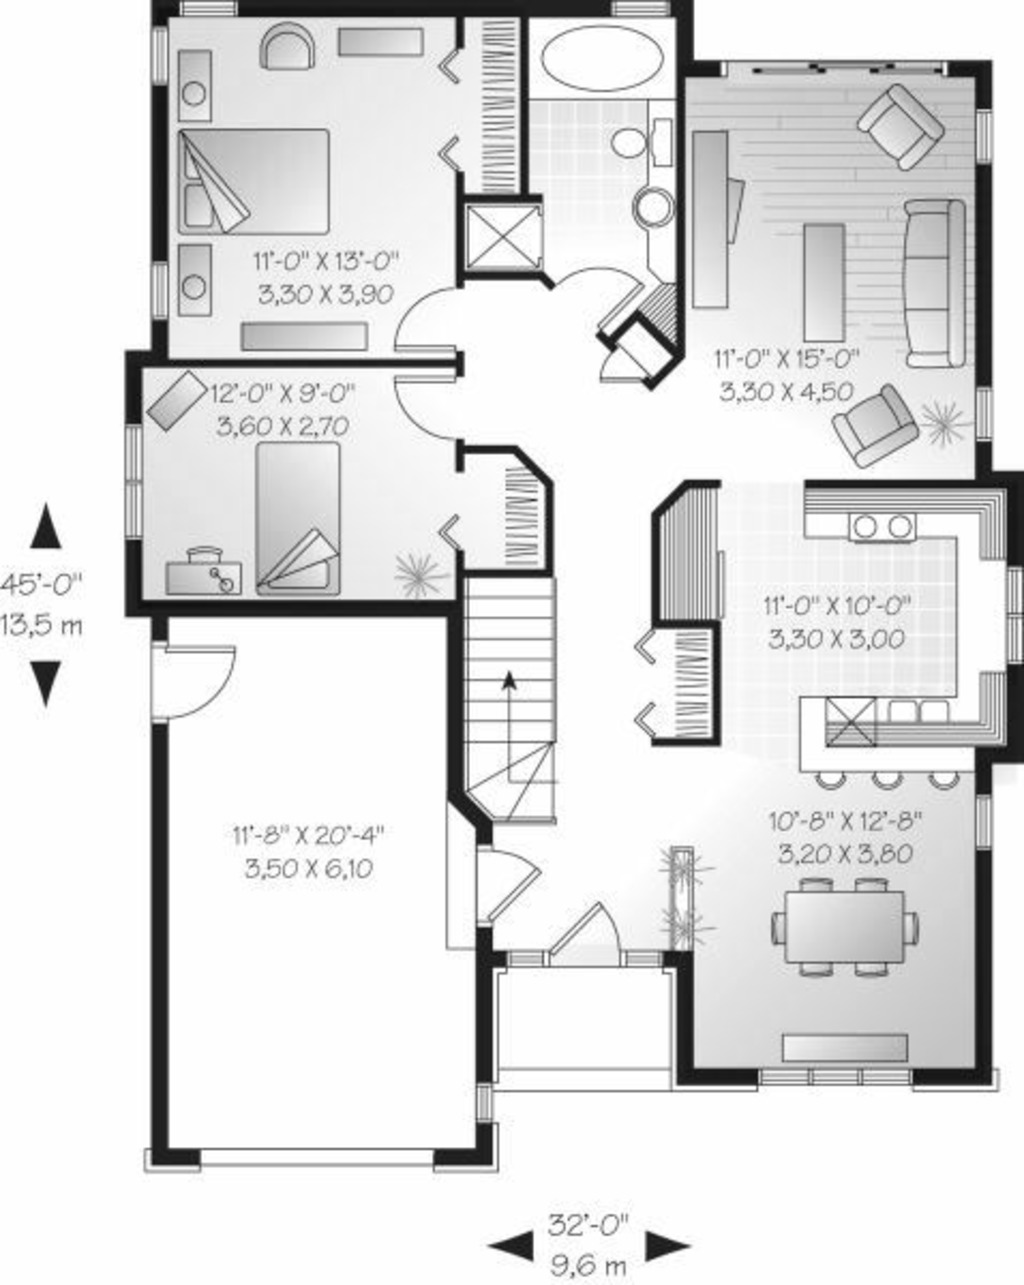bed: (165, 121, 351, 241), (239, 423, 347, 603)
dining_table: (745, 867, 941, 989)
door: (145, 625, 269, 741), (539, 873, 627, 973), (387, 363, 479, 453), (561, 251, 643, 333), (375, 267, 459, 347), (467, 852, 545, 925)
kitchen_bar: (802, 687, 1017, 795)
large_sink: (611, 107, 671, 176)
large_sofa: (893, 191, 969, 383)
small_sink: (627, 181, 685, 246)
small_sofa: (850, 77, 953, 171), (823, 377, 921, 467)
stairs: (465, 567, 567, 827)
tub: (531, 15, 686, 95)
window: (743, 1053, 917, 1099), (113, 423, 157, 537), (465, 1073, 505, 1135), (145, 25, 173, 91), (152, 239, 153, 316)
